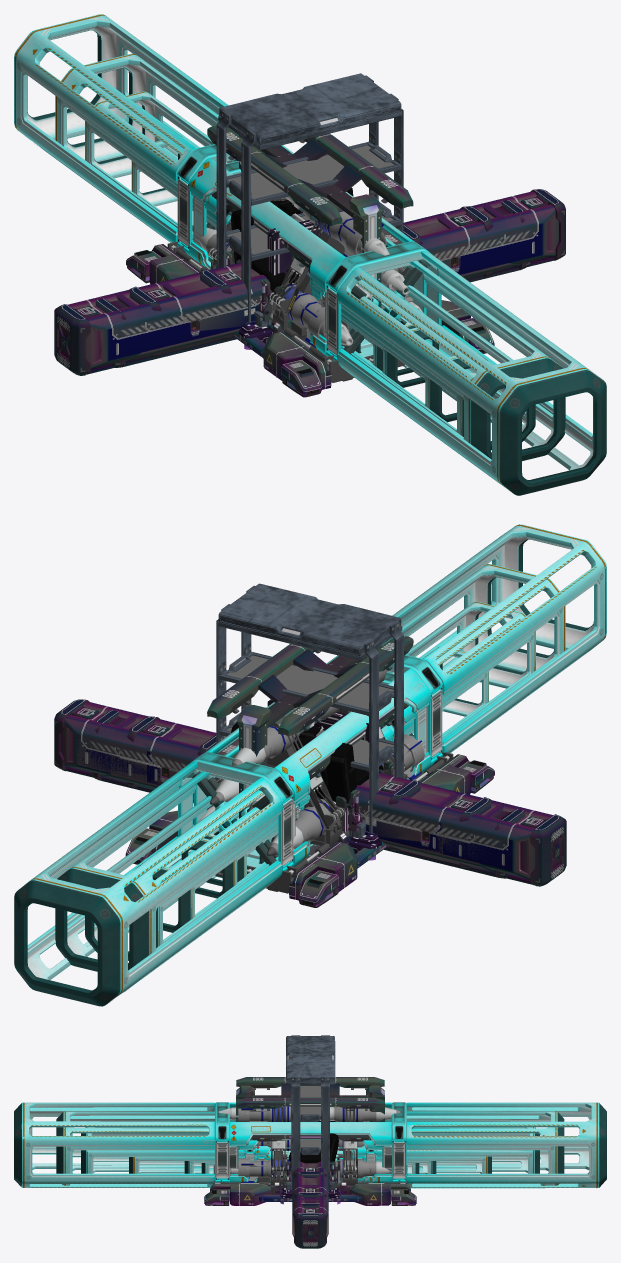
Rendered from munition.glb.
3 views of the same model, one above another, from view 1: azimuth 30°, elevation 25°; view 2: azimuth 150°, elevation 25°; view 3: azimuth 270°, elevation 25° (orthographic). The views are drawn at different scales.
Parts seen in each view (by area): view 1: prop_munition_missile_frame_s12_1_a, prop_munition_prop_component_display_dumper_c, prop_munition_rack_torpedo_1_a, prop_munition_missile_frame_s10_1_a, prop_munition_crate_torpedo_1_07x0075x0075_a, prop_munition_missile_frame_s9_1_a, prop_munition_uee_lawless_prop_missilestack_large, prop_munition_crate_torpedo_1_07x0075x0075_open_a, prop_munition_crate_torpedo_1_a, prop_munition_crate_torpedo_1_05x0075x0075_a, prop_munition_missile_frame_s7_1_a, prop_munition_crate_torpedo_1_05x0075x0075_open_a (+3 smaller); view 2: prop_munition_missile_frame_s12_1_a, prop_munition_prop_component_display_dumper_c, prop_munition_rack_torpedo_1_a, prop_munition_missile_frame_s10_1_a, prop_munition_crate_torpedo_1_07x0075x0075_a, prop_munition_missile_frame_s9_1_a, prop_munition_uee_lawless_prop_missilestack_large, prop_munition_crate_torpedo_1_a, prop_munition_crate_torpedo_1_07x0075x0075_open_a, prop_munition_crate_torpedo_1_05x0075x0075_a, prop_munition_crate_torpedo_1_05x0075x0075_open_a, prop_munition_missile_frame_s7_1_a (+3 smaller); view 3: prop_munition_missile_frame_s12_1_a, prop_munition_missile_frame_s10_1_a, prop_munition_rack_torpedo_1_a, prop_munition_missile_frame_s9_1_a, prop_munition_prop_component_display_dumper_c, prop_munition_uee_lawless_prop_missilestack_large, prop_munition_crate_torpedo_1_07x0075x0075_a, prop_munition_missile_frame_s7_1_a, prop_munition_missile_frame_s5_1_a.
Part boxes in pixels (x1,y1,x2,y2): prop_munition_missile_frame_s12_1_a: (14,14,606,495); prop_munition_prop_component_display_dumper_c: (216,73,403,327); prop_munition_rack_torpedo_1_a: (126,126,494,397); prop_munition_missile_frame_s10_1_a: (55,53,565,461); prop_munition_crate_torpedo_1_07x0075x0075_a: (54,189,565,375); prop_munition_missile_frame_s9_1_a: (85,91,535,450); prop_munition_uee_lawless_prop_missilestack_large: (167,161,424,382); prop_munition_crate_torpedo_1_07x0075x0075_open_a: (62,193,564,371); prop_munition_crate_torpedo_1_a: (95,199,530,367); prop_munition_crate_torpedo_1_05x0075x0075_a: (132,206,494,357); prop_munition_missile_frame_s7_1_a: (131,136,487,422); prop_munition_crate_torpedo_1_05x0075x0075_open_a: (129,206,493,357); prop_munition_missile_frame_s12_1_a: (14,524,606,1006); prop_munition_prop_component_display_dumper_c: (216,583,403,838); prop_munition_rack_torpedo_1_a: (125,636,494,907); prop_munition_missile_frame_s10_1_a: (55,564,565,971); prop_munition_crate_torpedo_1_07x0075x0075_a: (54,699,566,886); prop_munition_missile_frame_s9_1_a: (85,601,535,960); prop_munition_uee_lawless_prop_missilestack_large: (172,663,453,893); prop_munition_crate_torpedo_1_a: (89,709,525,878); prop_munition_crate_torpedo_1_07x0075x0075_open_a: (55,703,558,880); prop_munition_crate_torpedo_1_05x0075x0075_a: (132,716,488,868); prop_munition_crate_torpedo_1_05x0075x0075_open_a: (126,716,491,868); prop_munition_missile_frame_s7_1_a: (133,646,488,932); prop_munition_missile_frame_s12_1_a: (14,1102,606,1188); prop_munition_missile_frame_s10_1_a: (56,1111,564,1185); prop_munition_rack_torpedo_1_a: (204,1077,416,1205); prop_munition_missile_frame_s9_1_a: (81,1127,539,1180); prop_munition_prop_component_display_dumper_c: (286,1035,335,1190); prop_munition_uee_lawless_prop_missilestack_large: (213,1106,407,1186); prop_munition_crate_torpedo_1_07x0075x0075_a: (292,1161,328,1248); prop_munition_missile_frame_s7_1_a: (129,1149,491,1173); prop_munition_missile_frame_s5_1_a: (184,1152,436,1179).
Size of the model in its own units: 7 by 2.8 by 12.26.
Materials: 72 (59 with a texture image).
